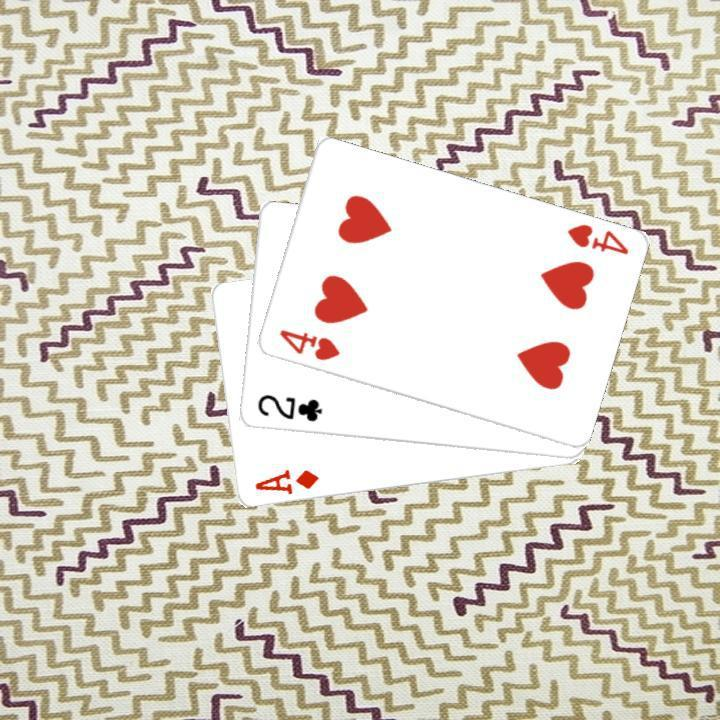2: (252, 391, 324, 425)
4: (274, 325, 341, 363), (562, 220, 630, 257)
A: (250, 465, 320, 497)
